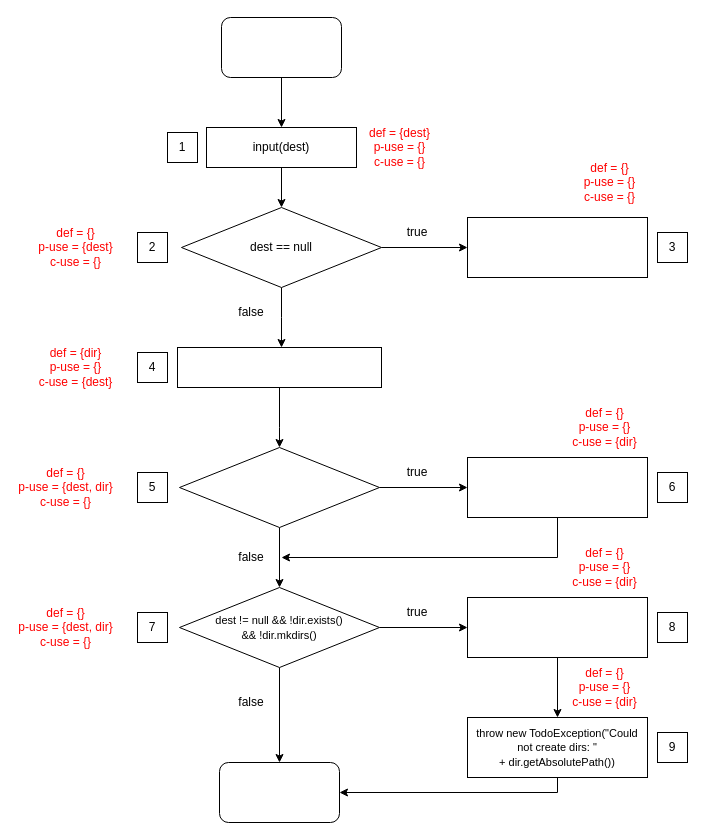
This 705x840 diagram has some shape labels left out. Each missing label, with the centre of its shape:
createParentDirectory(dir): (x=557, y=487)
dest != null && !dir.exists(): (x=279, y=487)
End: (x=279, y=792)
File dir = dest.getParentFile(): (x=279, y=367)
Start: (x=281, y=47)
System.out.print("Could not create dirs: " + dir.getAbsolutePath()): (x=557, y=627)
throw TodoException: (x=557, y=247)
